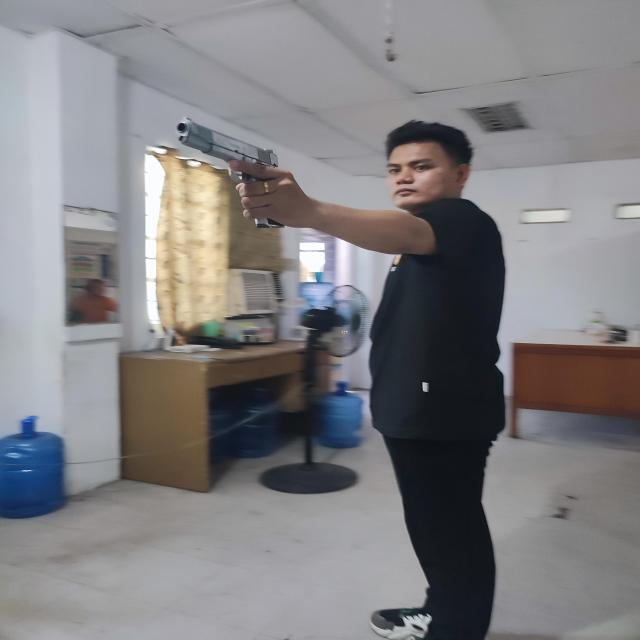pistol: (177, 116, 278, 182)
